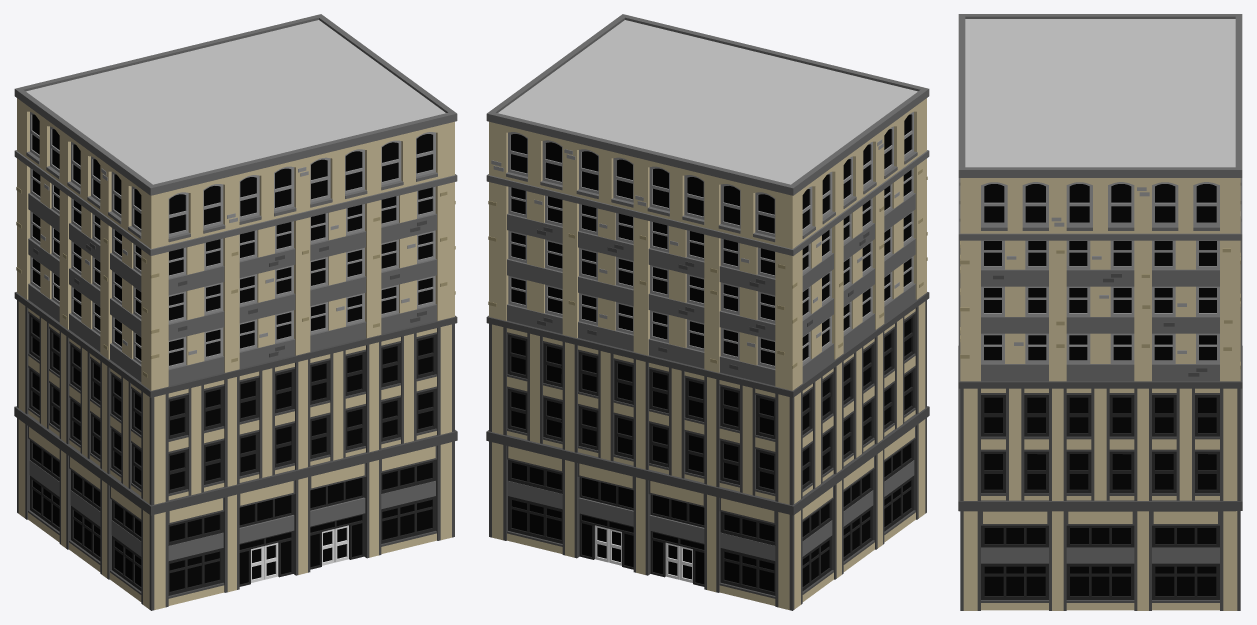
File: Classical-05.fbx
3 views of the same model, side by side, from view 1: azimuth 30°, elevation 25°; view 2: azimuth 150°, elevation 25°; view 3: azimuth 270°, elevation 25° (orthographic). The views are drawn at different scales.
Visible parts, largest first — view 1: Building; view 2: Building; view 3: Building.
Boxes of the visible parts, x1=… form: Building: x1=14, y1=14, x2=457, y2=610; Building: x1=486, y1=14, x2=929, y2=610; Building: x1=958, y1=14, x2=1242, y2=610.
Size of what is drawn, in the model's own units: 21.33 by 28.1 by 16.41.
